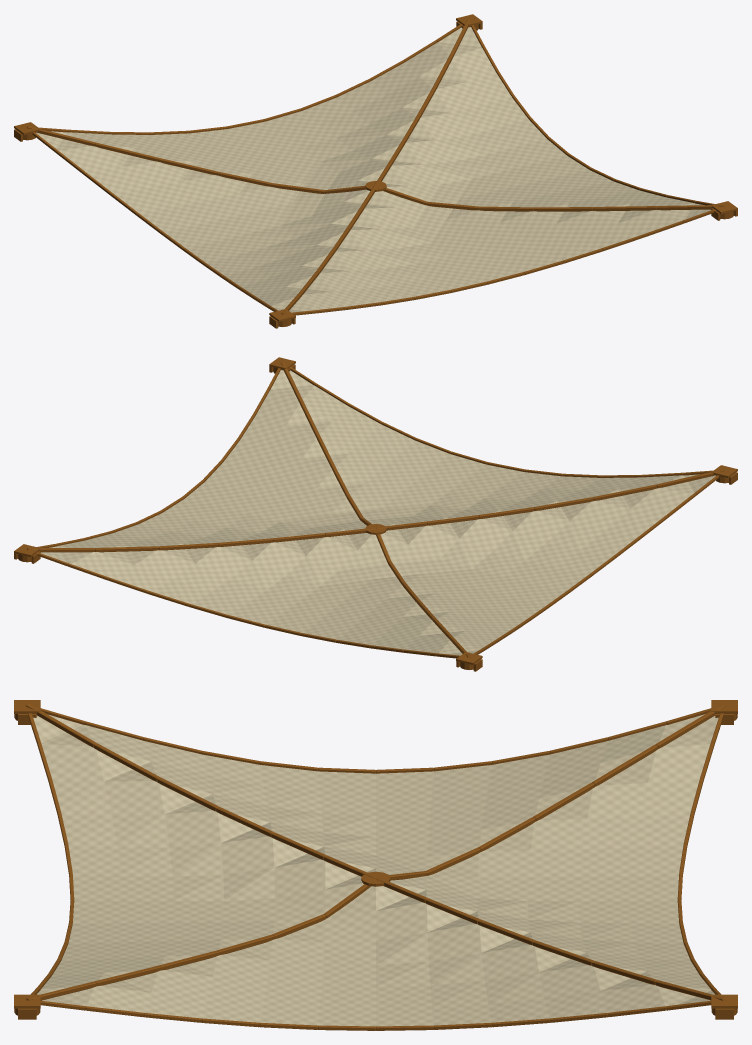
3 renders of one model, top to bottom at view 1: azimuth 30°, elevation 25°; view 2: azimuth 150°, elevation 25°; view 3: azimuth 270°, elevation 25°, orthographic. The views are drawn at different scales.
Parts seen in each view (by area): view 1: Shallow scalloped four-point tension textile; view 2: Shallow scalloped four-point tension textile; view 3: Shallow scalloped four-point tension textile.
Part boxes in pixels (x1=…): Shallow scalloped four-point tension textile: x1=36, y1=27, x2=710, y2=312; Shallow scalloped four-point tension textile: x1=40, y1=370, x2=715, y2=655; Shallow scalloped four-point tension textile: x1=33, y1=714, x2=718, y2=1026.
Bounding box in the file's own units: 3.55 × 0.2725 × 3.53.
Materials: 2 (2 with a texture image).
